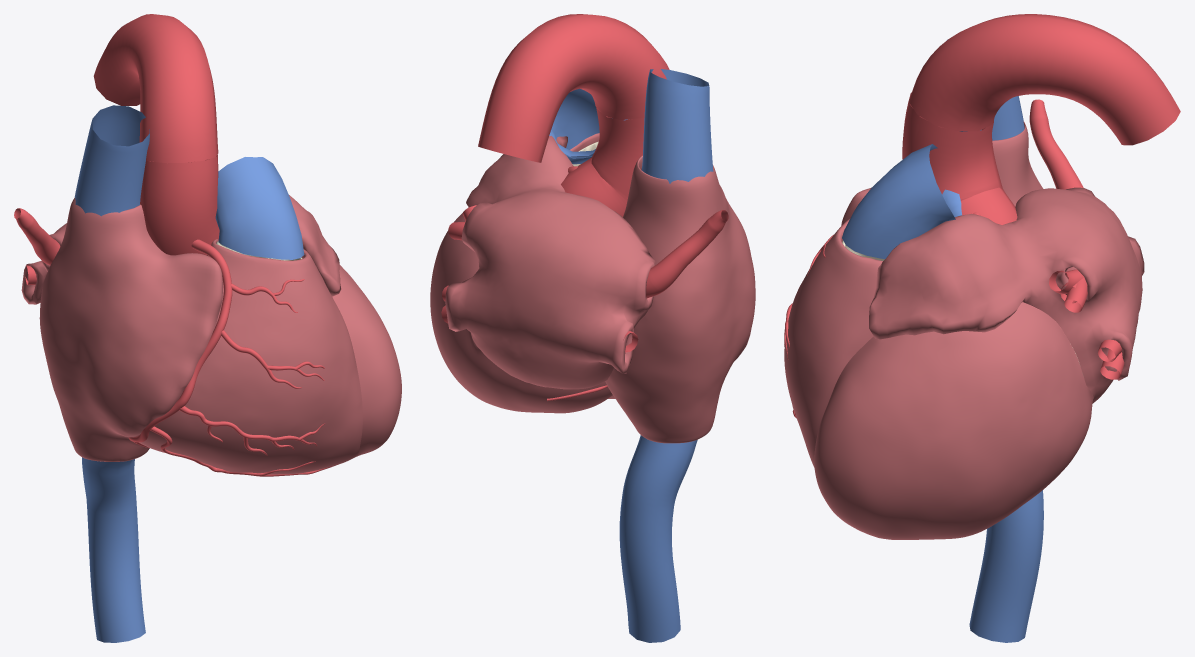
File: corazon.glb
3 views of the same model, side by side, from view 1: azimuth 30°, elevation 25°; view 2: azimuth 150°, elevation 25°; view 3: azimuth 270°, elevation 25° (orthographic). The views are drawn at different scales.
Parts seen in each view (by area): view 1: Right atrium, Right ventricle, Aortic arch, Inferior vena cava (thoracic part), Pulmonary trunk, Ascending aorta, Left ventricle, Superior vena cava, Right coronary artery, Left atrium, Right superior pulmonary vein; view 2: Left atrium, Right atrium, Aortic arch, Inferior vena cava (thoracic part), Left ventricle, Superior vena cava, Ascending aorta, Pulmonary trunk, Right superior pulmonary vein; view 3: Left ventricle, Left atrium, Aortic arch, Right ventricle, Inferior vena cava (thoracic part), Pulmonary trunk, Ascending aorta, Right atrium, Right superior pulmonary vein, Superior vena cava, Left superior pulmonary vein, Left inferior pulmonary vein.
Part boxes in pixels (x1,y1,x2,y2): Right atrium: (39,198,222,461); Right ventricle: (132,239,362,474); Aortic arch: (93,14,218,162); Inferior vena cava (thoracic part): (82,457,145,642); Pulmonary trunk: (215,157,304,259); Ascending aorta: (140,154,219,255); Left ventricle: (332,265,401,456); Superior vena cava: (74,105,149,216); Right coronary artery: (128,239,335,476); Left atrium: (21,195,341,304); Right superior pulmonary vein: (14,208,60,265); Left atrium: (445,136,655,389); Right atrium: (605,155,755,443); Aortic arch: (478,14,669,162); Inferior vena cava (thoracic part): (619,435,697,642); Left ventricle: (430,207,612,413); Superior vena cava: (641,69,713,183); Ascending aorta: (561,107,644,216); Pulmonary trunk: (549,88,627,164); Right superior pulmonary vein: (646,210,728,298); Left ventricle: (814,302,1093,539); Left atrium: (869,187,1144,403); Aortic arch: (909,14,1180,145); Right ventricle: (784,218,882,467); Inferior vena cava (thoracic part): (969,490,1043,642); Pulmonary trunk: (842,144,961,258); Ascending aorta: (902,92,1017,224); Right atrium: (841,121,1043,302); Right superior pulmonary vein: (1029,99,1083,189); Superior vena cava: (946,39,1024,140); Left superior pulmonary vein: (1049,269,1087,312); Left inferior pulmonary vein: (1097,339,1124,379).
Bounding box in the file's own units: 0.1275 × 0.2264 × 0.1243.
